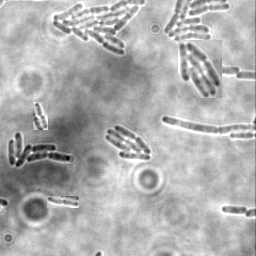Dividing: (161, 114, 255, 133), (33, 102, 48, 130), (47, 196, 79, 208), (221, 204, 248, 215)
Microcolony: (51, 1, 147, 56), (162, 1, 231, 44), (178, 40, 222, 98), (8, 130, 72, 167), (106, 124, 153, 160), (223, 63, 240, 74)
